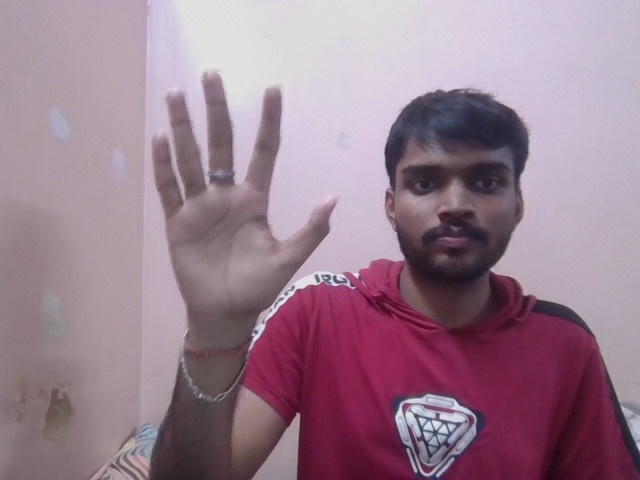Hello: (142, 63, 340, 319)
